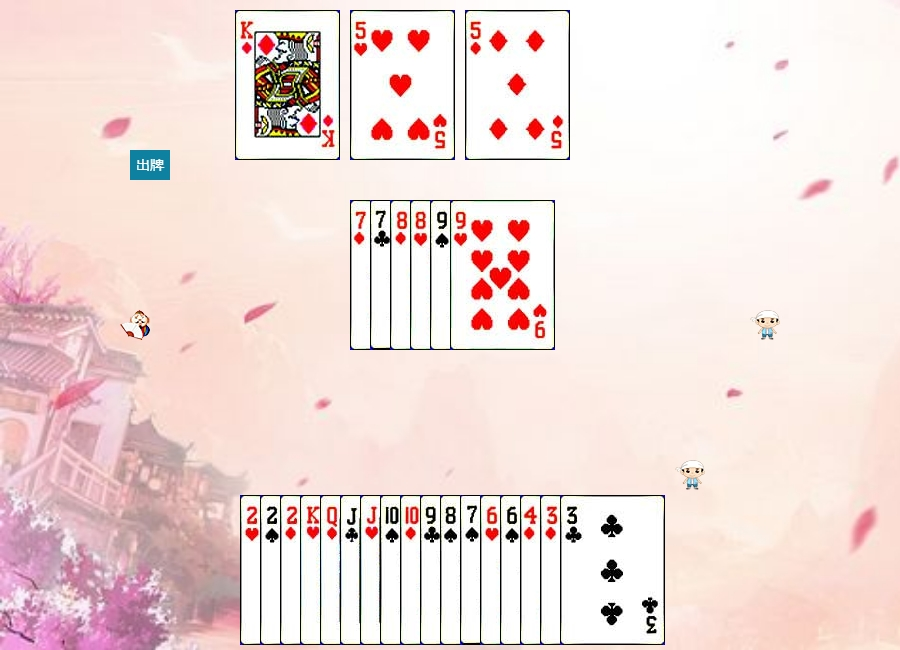10~1: (400, 495, 505, 645)
10~4: (380, 495, 485, 645)
11~2: (340, 495, 445, 645)
11~3: (360, 495, 465, 645)
12~1: (320, 495, 425, 645)
13~1: (235, 10, 340, 160)
13~3: (300, 495, 405, 645)
15~1: (280, 495, 385, 645)
15~3: (240, 495, 345, 645)
15~4: (260, 495, 365, 645)
3~1: (540, 495, 645, 645)
3~2: (560, 495, 665, 645)
4~1: (520, 495, 625, 645)
5~1: (465, 10, 570, 160)
5~3: (350, 10, 455, 160)
6~3: (480, 495, 585, 645)
6~4: (500, 495, 605, 645)
7~1: (350, 200, 455, 350)
7~2: (370, 200, 475, 350)
7~4: (460, 495, 565, 645)
8~1: (390, 200, 495, 350)
8~3: (410, 200, 515, 350)
8~4: (440, 495, 545, 645)
9~2: (420, 495, 525, 645)
9~3: (450, 200, 555, 350)
9~4: (430, 200, 535, 350)
